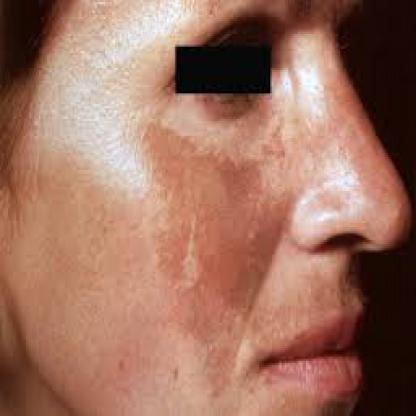darkspot: (132, 110, 274, 304), (236, 365, 270, 401), (107, 352, 131, 384), (162, 346, 181, 386), (204, 386, 222, 399)
